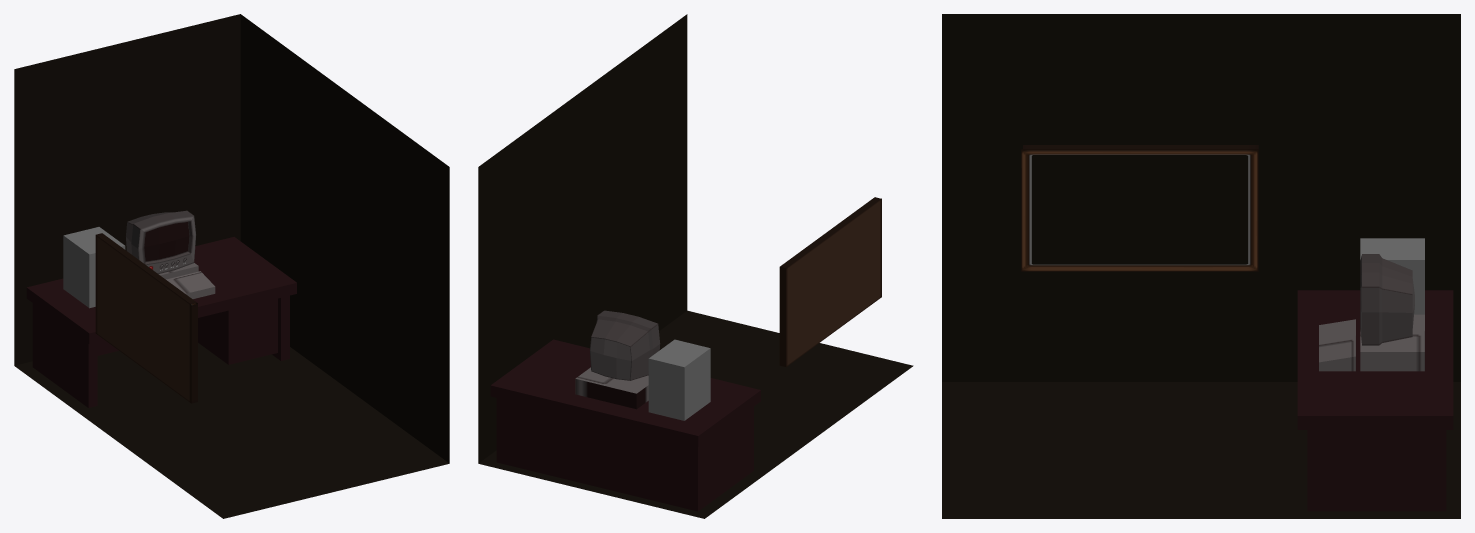
The model's file is room.fbx.
3 renders of one model, left to right at view 1: azimuth 30°, elevation 25°; view 2: azimuth 150°, elevation 25°; view 3: azimuth 270°, elevation 25°, orthographic. The views are drawn at different scales.
Parts seen in each view (by area): view 1: Plane, Cube.003, frame.001, tv, Cube.002, Cube.001; view 2: Plane, Cube.003, frame.001, Cube.002, tv, Cube; view 3: Plane, Cube.003, frame.001, tv, Cube, Cube.002, Cube.001.
Part boxes in pixels (x1,y1,x2,y2): Plane: [14, 14, 449, 518]; Cube.003: [26, 237, 296, 407]; frame.001: [95, 233, 197, 403]; tv: [126, 210, 195, 273]; Cube.002: [63, 227, 125, 308]; Cube.001: [166, 271, 215, 298]; Plane: [478, 14, 913, 518]; Cube.003: [490, 339, 760, 511]; frame.001: [779, 197, 881, 366]; Cube.002: [648, 339, 710, 420]; tv: [590, 310, 660, 380]; Cube: [575, 367, 648, 409]; Plane: [942, 14, 1460, 518]; Cube.003: [1297, 290, 1453, 511]; frame.001: [1021, 145, 1258, 271]; tv: [1360, 254, 1414, 345]; Cube: [1360, 314, 1424, 371]; Cube.002: [1360, 238, 1424, 314]; Cube.001: [1319, 319, 1355, 371].
Size of the model in its own units: 200 by 250 by 320.
